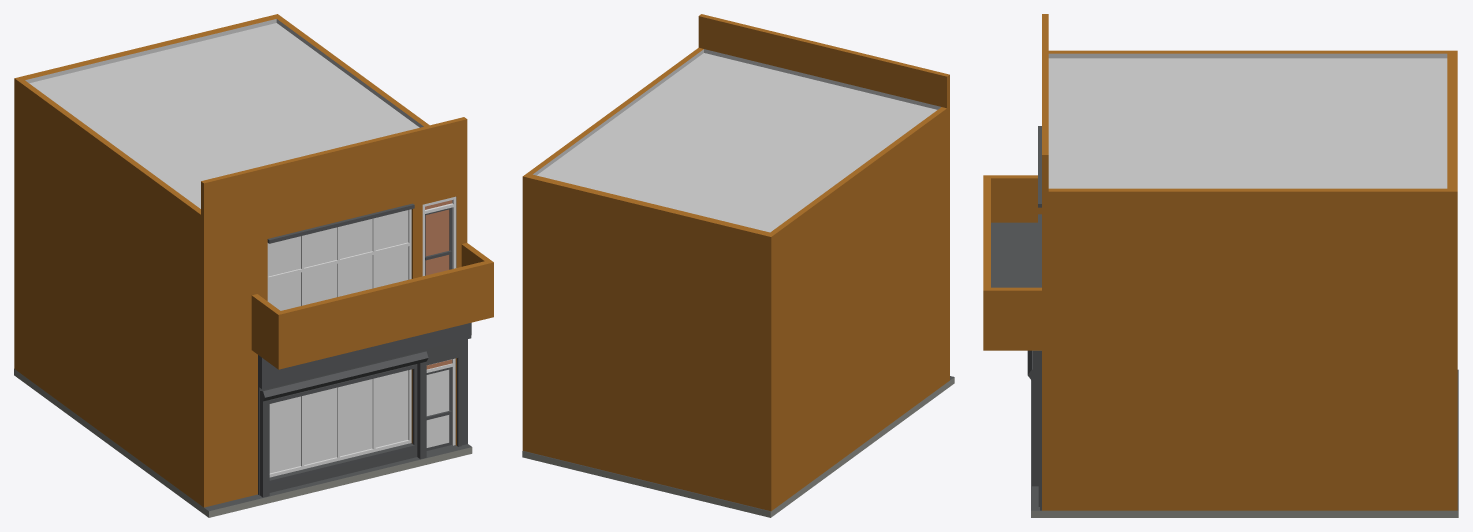
The model's file is Two_Story_Balcony_Export.fbx.
The picture shows the model from 3 angles, left to right: view 1: azimuth 30°, elevation 25°; view 2: azimuth 150°, elevation 25°; view 3: azimuth 270°, elevation 25°; orthographic projection. The views are drawn at different scales.
Visible parts, largest first — view 1: Building, Glass Window, Glass Door Window 1, Glass Door Window 2; view 2: Building; view 3: Building.
Part boxes in pixels (bbox=[...]): Building: bbox=[14, 14, 493, 517]; Glass Window: bbox=[268, 210, 408, 473]; Glass Door Window 1: bbox=[426, 369, 449, 447]; Glass Door Window 2: bbox=[425, 209, 449, 275]; Building: bbox=[522, 14, 954, 517]; Building: bbox=[983, 14, 1458, 517].
Bounding box in the file's own units: 837 × 1004 × 1192.
